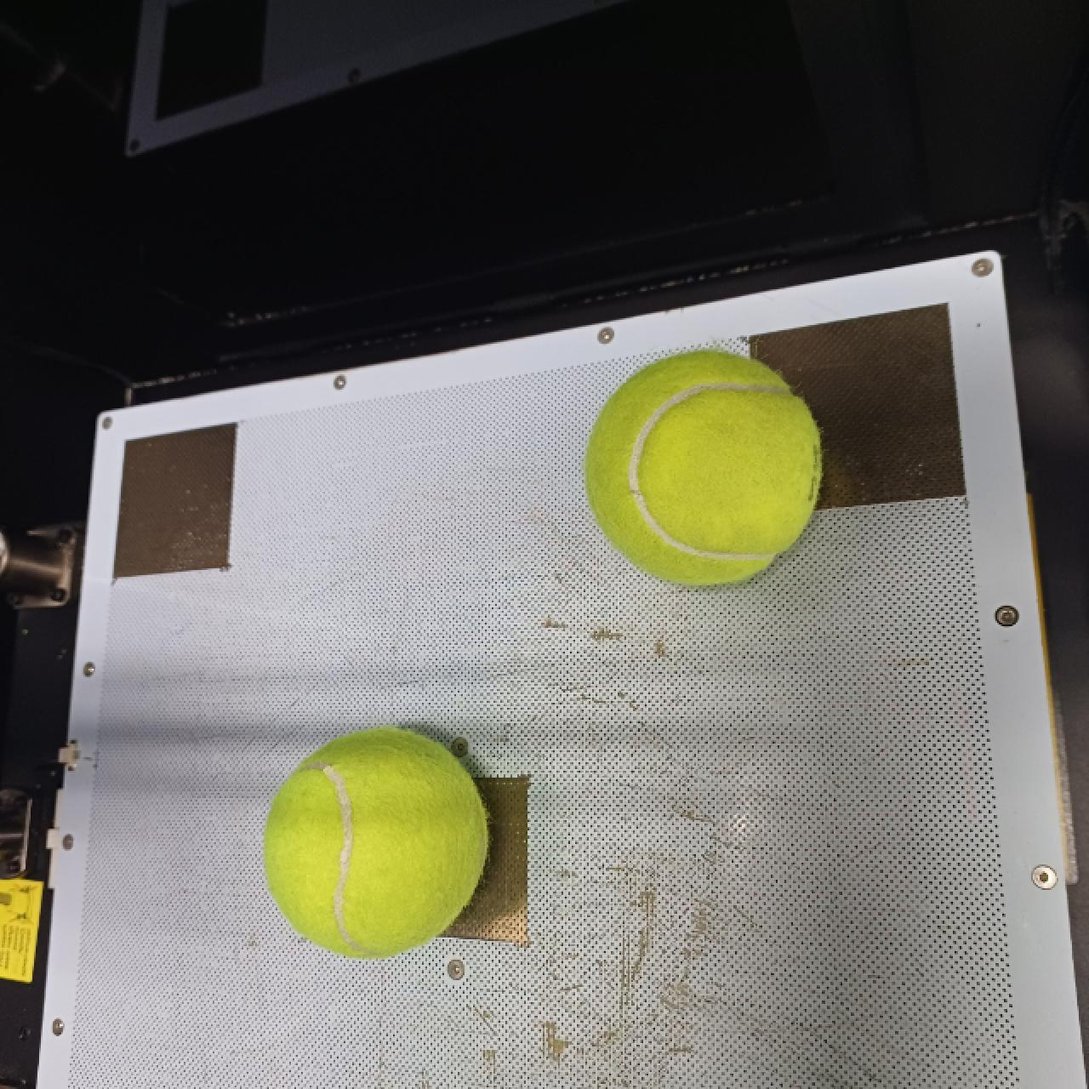tennis-ball: (582, 343, 826, 589), (261, 724, 492, 956)
